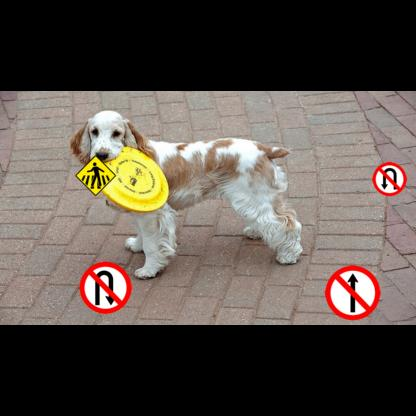A-32b: (75, 155, 116, 196)
R-3: (325, 265, 380, 320)
R-5a: (372, 162, 407, 196)
